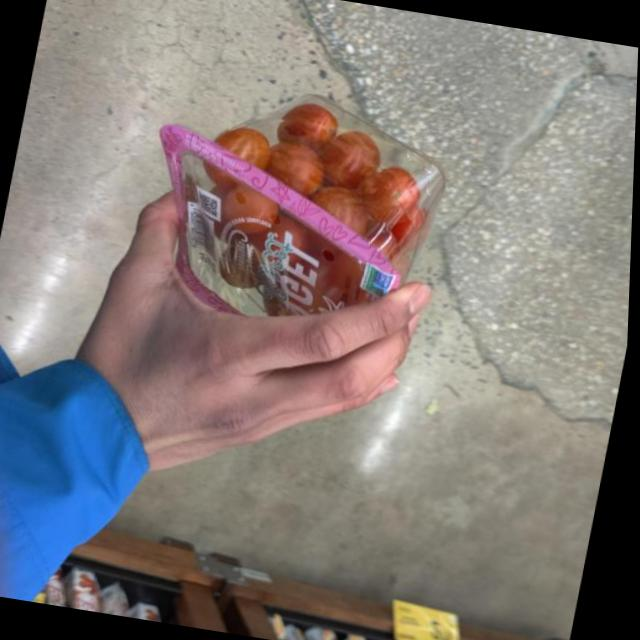Tomatoes: (96, 37, 523, 384)
